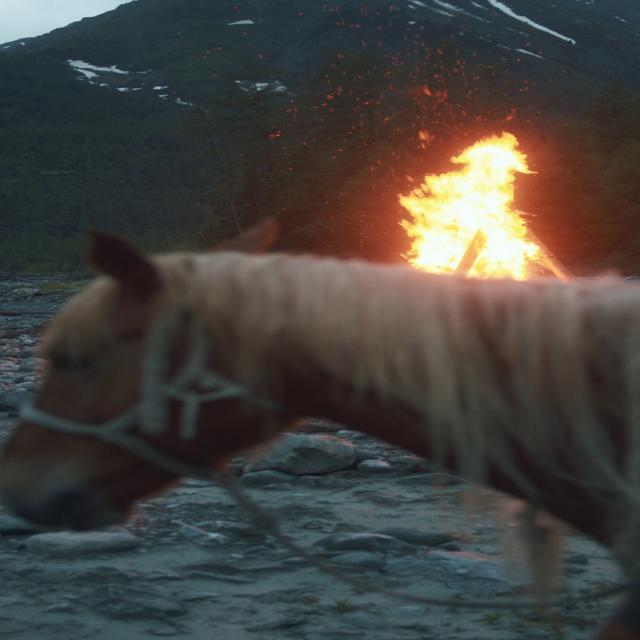Fire: (389, 130, 557, 280)
